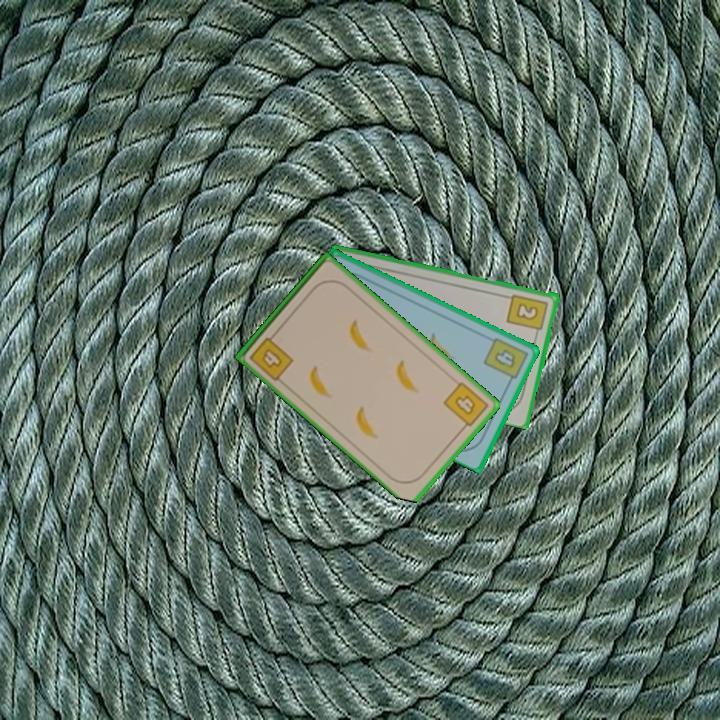2b: (504, 291, 551, 338)
4b: (440, 378, 492, 434), (246, 328, 297, 384), (480, 334, 531, 387)
